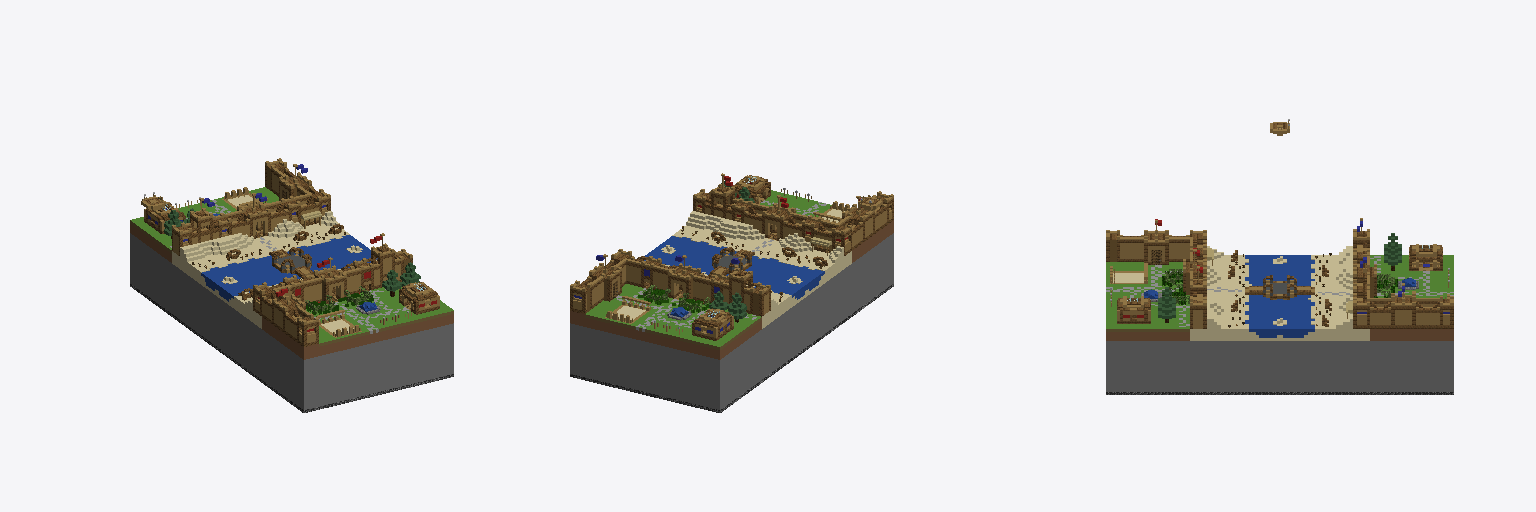
3 renders of one model, left to right at view 1: azimuth 30°, elevation 25°; view 2: azimuth 150°, elevation 25°; view 3: azimuth 270°, elevation 25°, orthographic.
Size of the model in its own units: 74 by 53.5 by 100.
Materials: 34 (16 with a texture image).